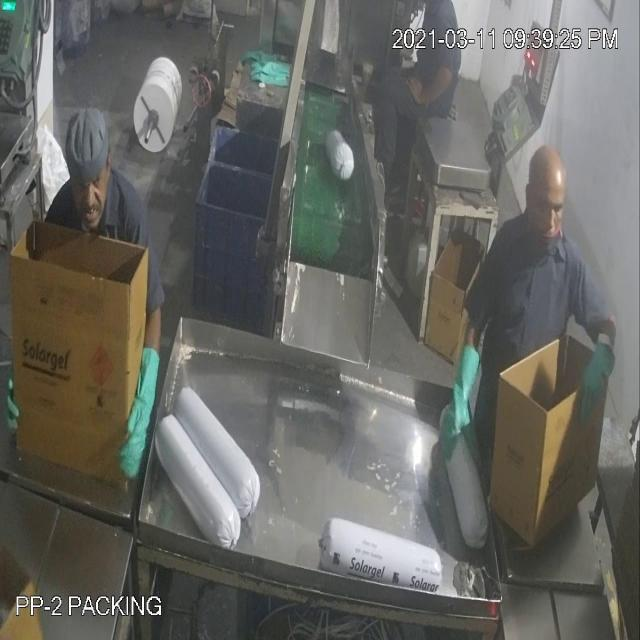No_Gloves: (52, 62, 596, 427)
